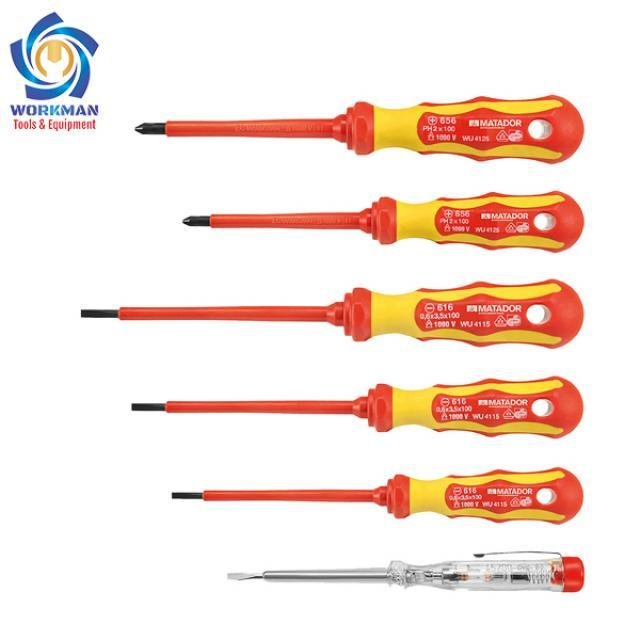screwdriver: (77, 274, 588, 357), (127, 86, 590, 176), (124, 372, 592, 445), (175, 189, 588, 260), (164, 462, 586, 529)
